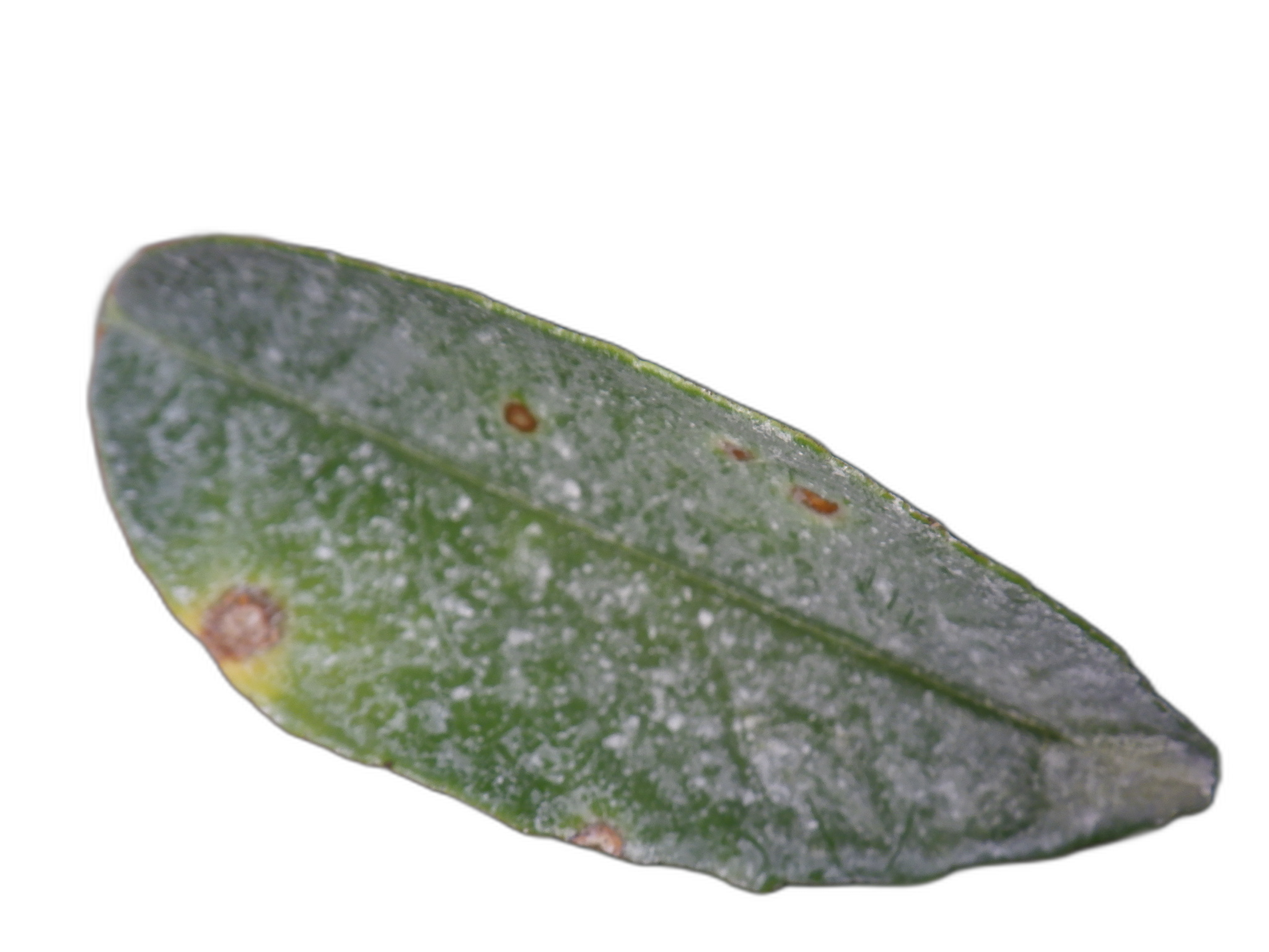Canker: (199, 588, 281, 661), (569, 819, 628, 861), (792, 486, 838, 514), (503, 400, 536, 432), (726, 444, 755, 464)
